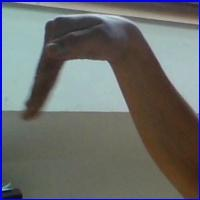del: (17, 16, 152, 118)
